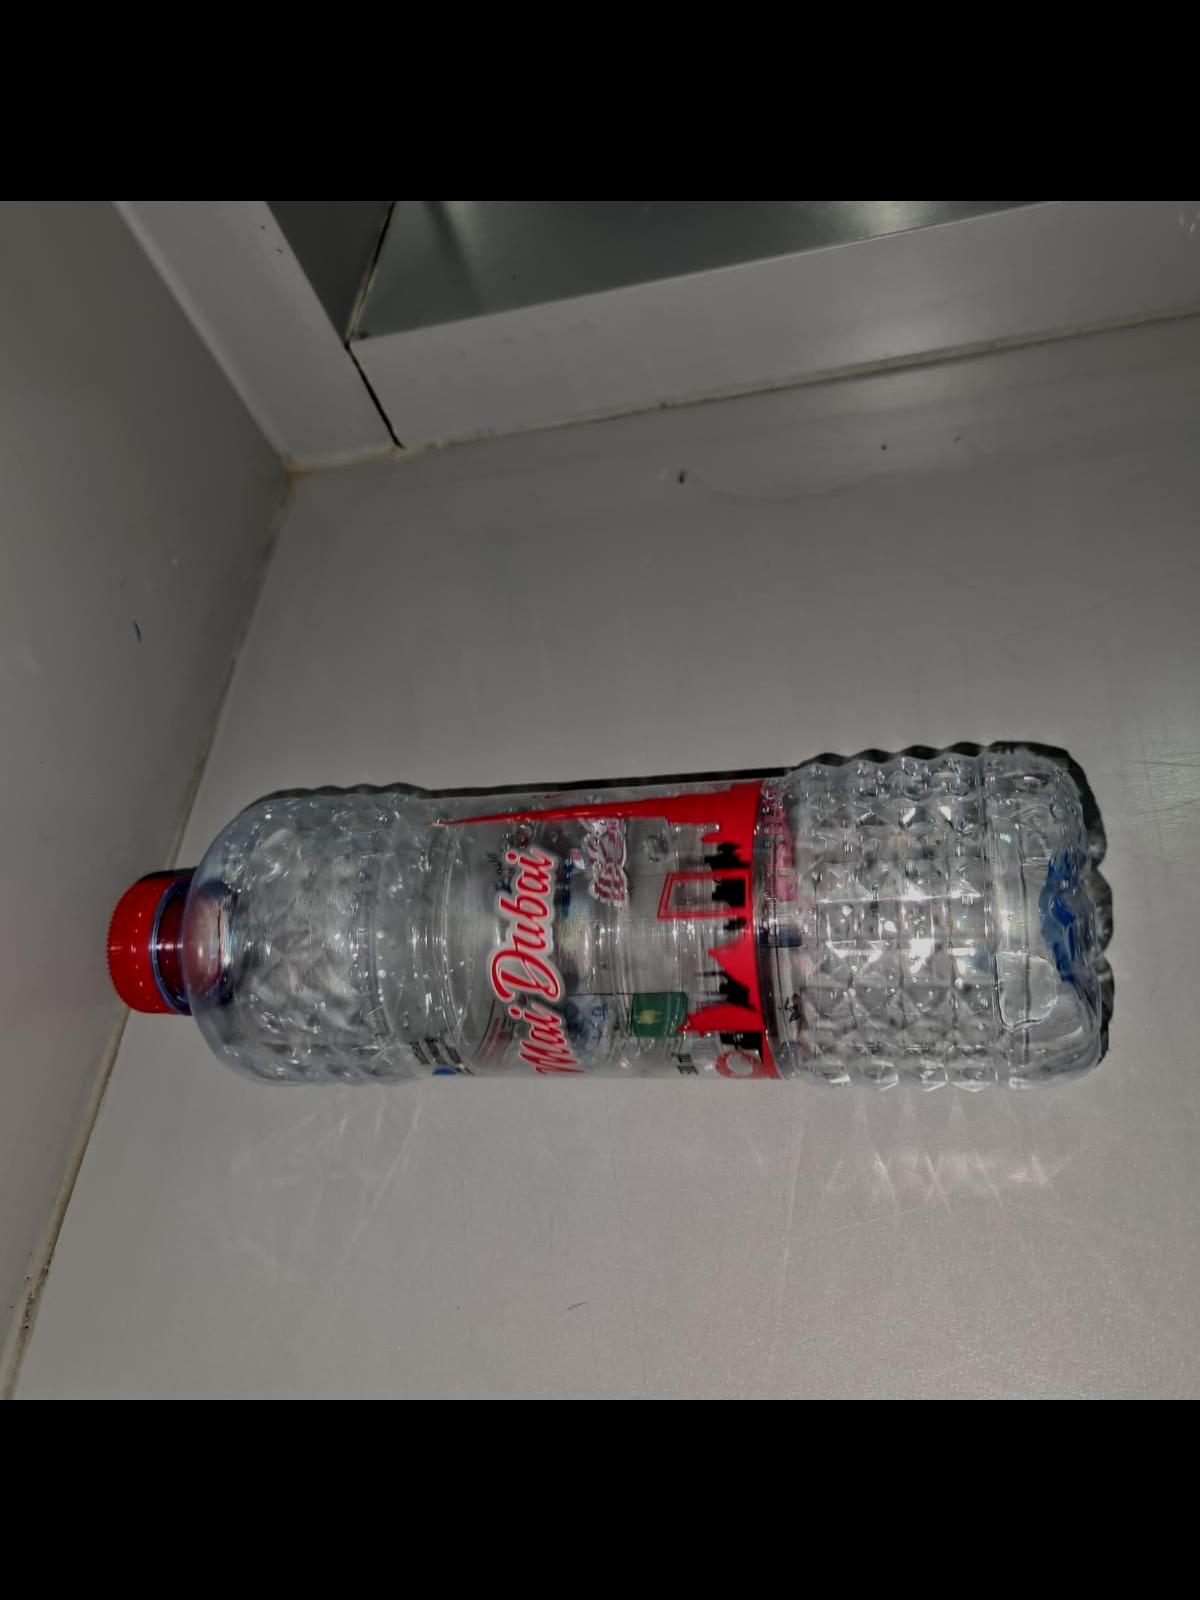bottle: (101, 733, 1114, 1092)
